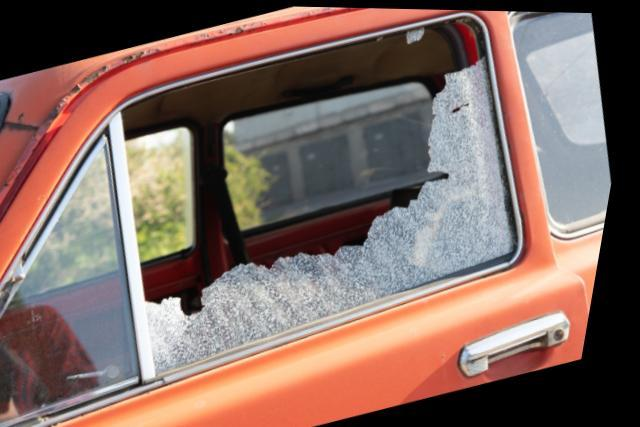glass shatter: (125, 14, 525, 373)
